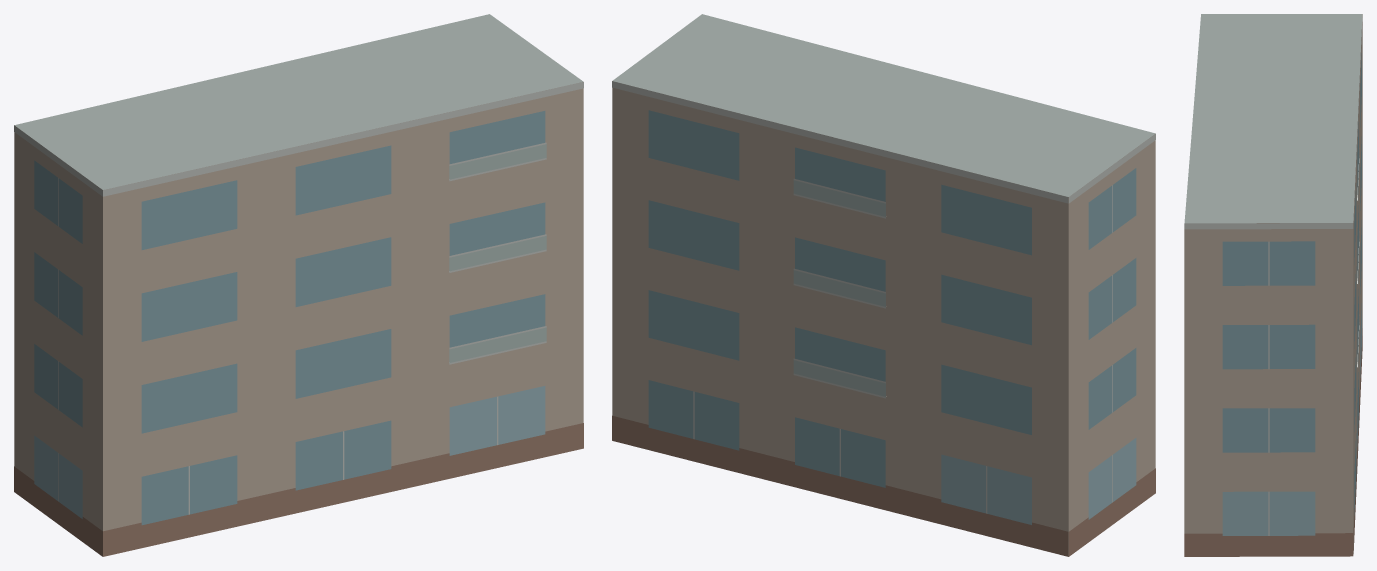
The model's file is survey-upis-32895064.glb.
3 views of the same model, side by side, from view 1: azimuth 30°, elevation 25°; view 2: azimuth 150°, elevation 25°; view 3: azimuth 270°, elevation 25° (orthographic). The views are drawn at different scales.
Parts seen in each view (by area): view 1: survey-upis-32895064.tmp; view 2: survey-upis-32895064.tmp; view 3: survey-upis-32895064.tmp.
Part boxes in pixels (box(x1,y1,x2,y2)): survey-upis-32895064.tmp: box(14, 14, 583, 556); survey-upis-32895064.tmp: box(612, 14, 1155, 556); survey-upis-32895064.tmp: box(1184, 14, 1362, 556).
Size of the model in its own units: 18.05 by 13.4 by 6.49.
